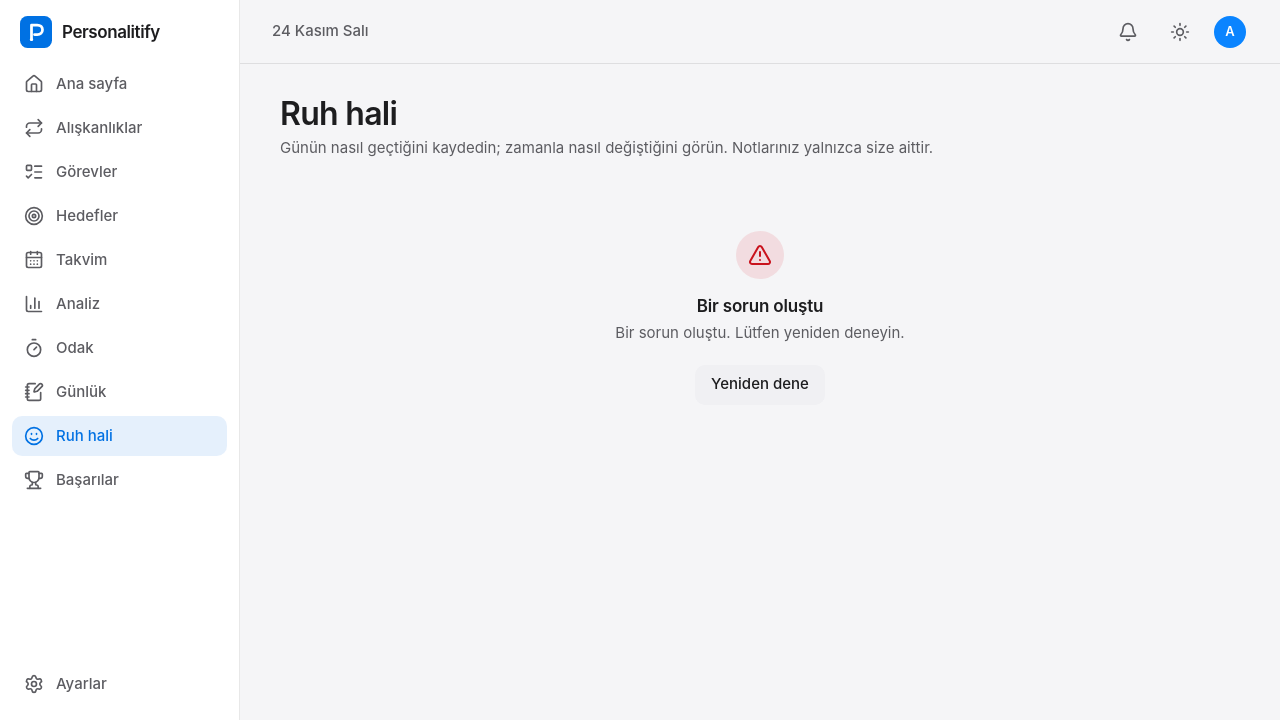
Test: mood › offers a retry when the month cannot be loaded
The width and height of the screenshot is (1280, 720).
Click the button "Yeniden dene": (760, 385) x1=695 y1=365 x2=825 y2=405
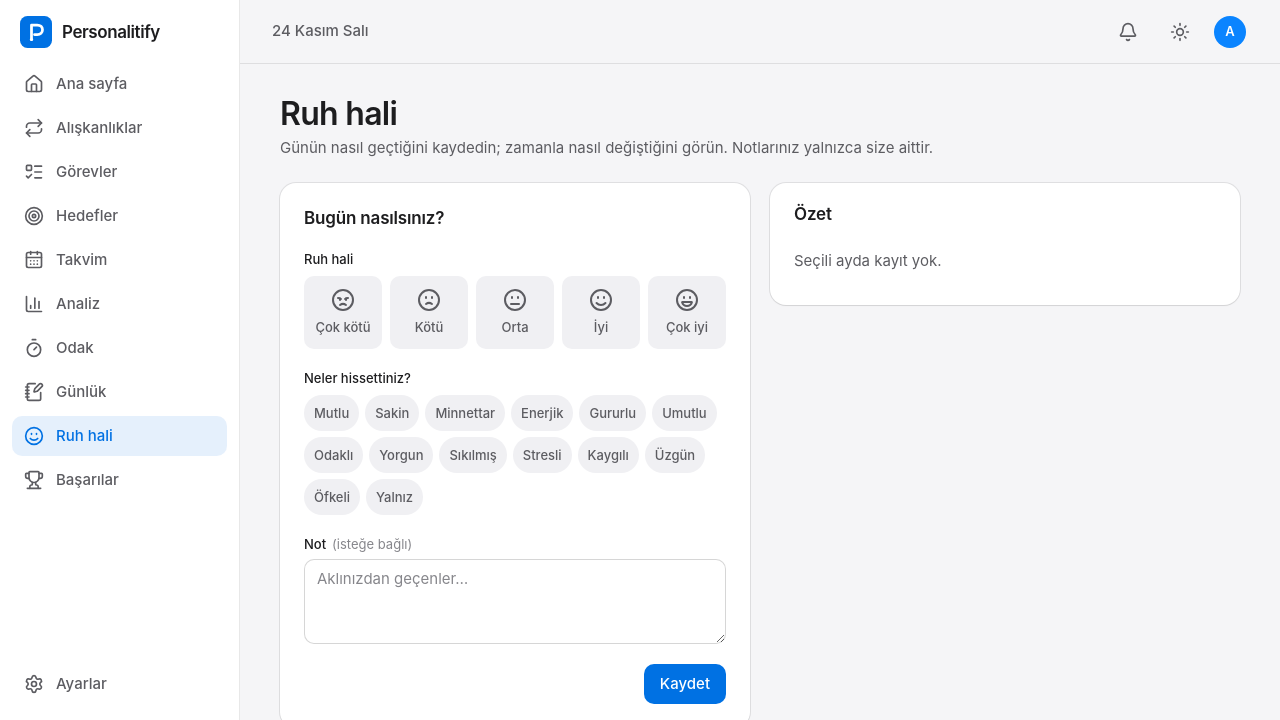
Expected: the heading "Bugün nasılsınız?" is shown, x1=304 y1=208 x2=444 y2=228
